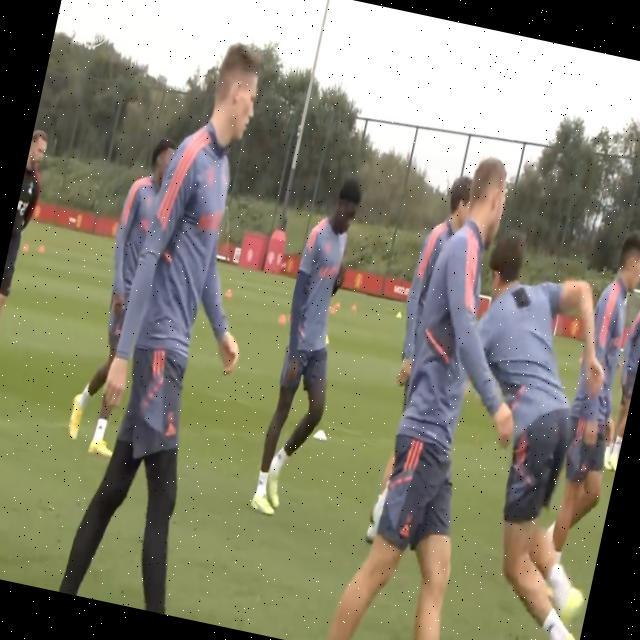Adidas: (163, 422, 179, 440), (398, 523, 411, 539)
